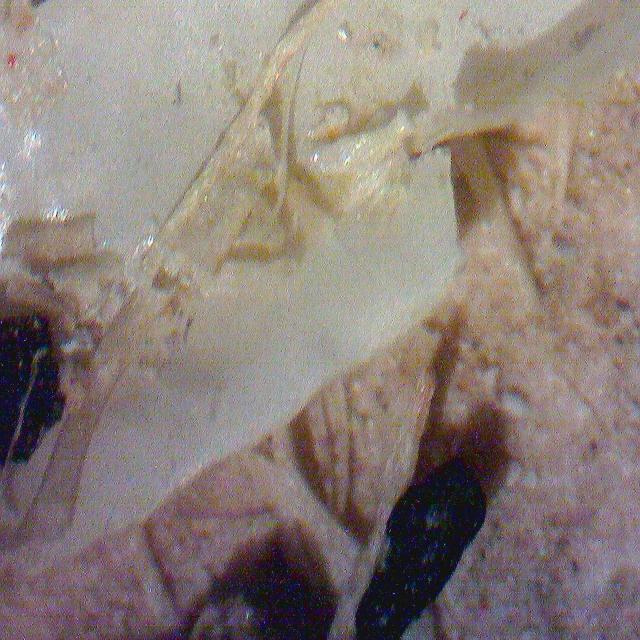microplastic: (34, 145, 465, 571), (1, 0, 310, 266), (280, 1, 640, 171)
